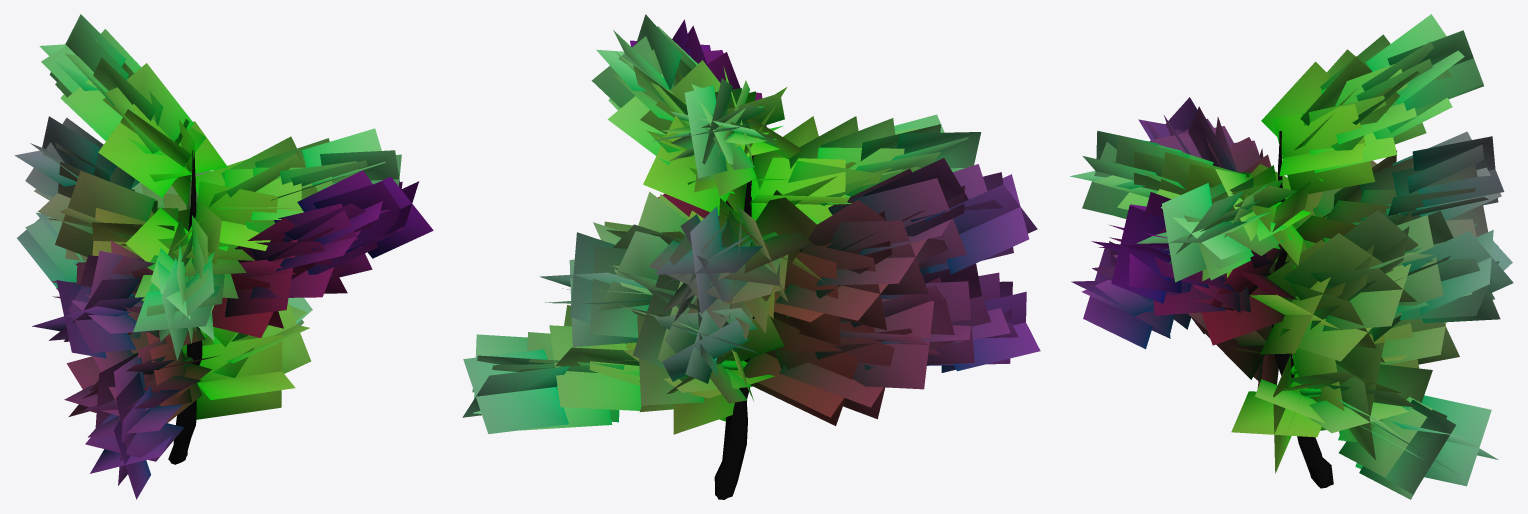
File: M_P6_Tree_15.fbx
3 renders of one model, left to right at view 1: azimuth 30°, elevation 25°; view 2: azimuth 150°, elevation 25°; view 3: azimuth 270°, elevation 25°, orthographic. The views are drawn at different scales.
Visible parts, largest first — view 1: Tree_15; view 2: Tree_15; view 3: Tree_15.
Part boxes in pixels (box(x1,y1,x2,y2)): Tree_15: box(14, 14, 433, 499); Tree_15: box(462, 14, 1040, 499); Tree_15: box(1070, 14, 1513, 499).
Bounding box in the file's own units: 886 × 911 × 825.
